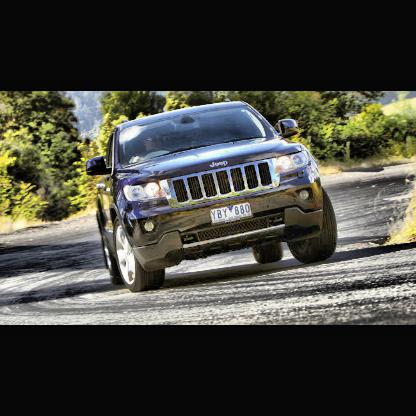Jeep Grand Cherokee SUV 2012: (87, 101, 340, 294)
